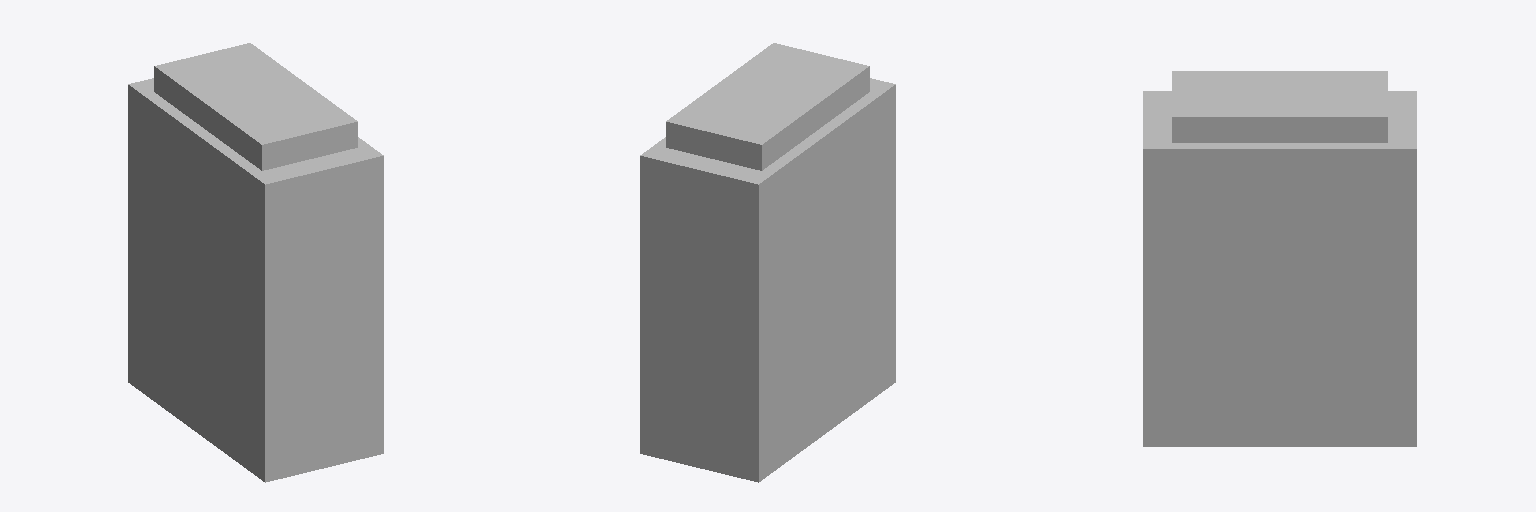
Rendered from chimeney.obj.
3 renders of one model, left to right at view 1: azimuth 30°, elevation 25°; view 2: azimuth 150°, elevation 25°; view 3: azimuth 270°, elevation 25°, orthographic.
Parts seen in each view (by area): view 1: Chimeney_Cube.001; view 2: Chimeney_Cube.001; view 3: Chimeney_Cube.001.
Part boxes in pixels (left/top/right/bottom): Chimeney_Cube.001: left=128, top=43, right=383, bottom=482; Chimeney_Cube.001: left=640, top=43, right=895, bottom=482; Chimeney_Cube.001: left=1143, top=71, right=1416, bottom=446.
Bounding box in the file's own units: 1 × 2.61 × 2.